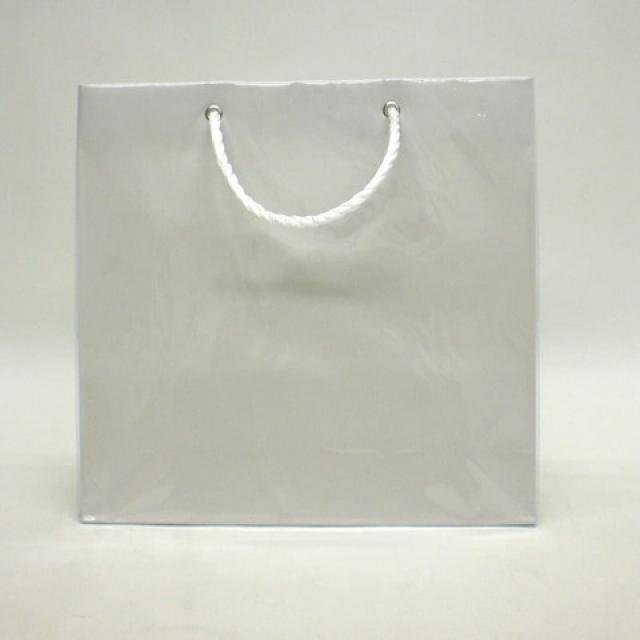paper bag: (71, 78, 546, 535)
